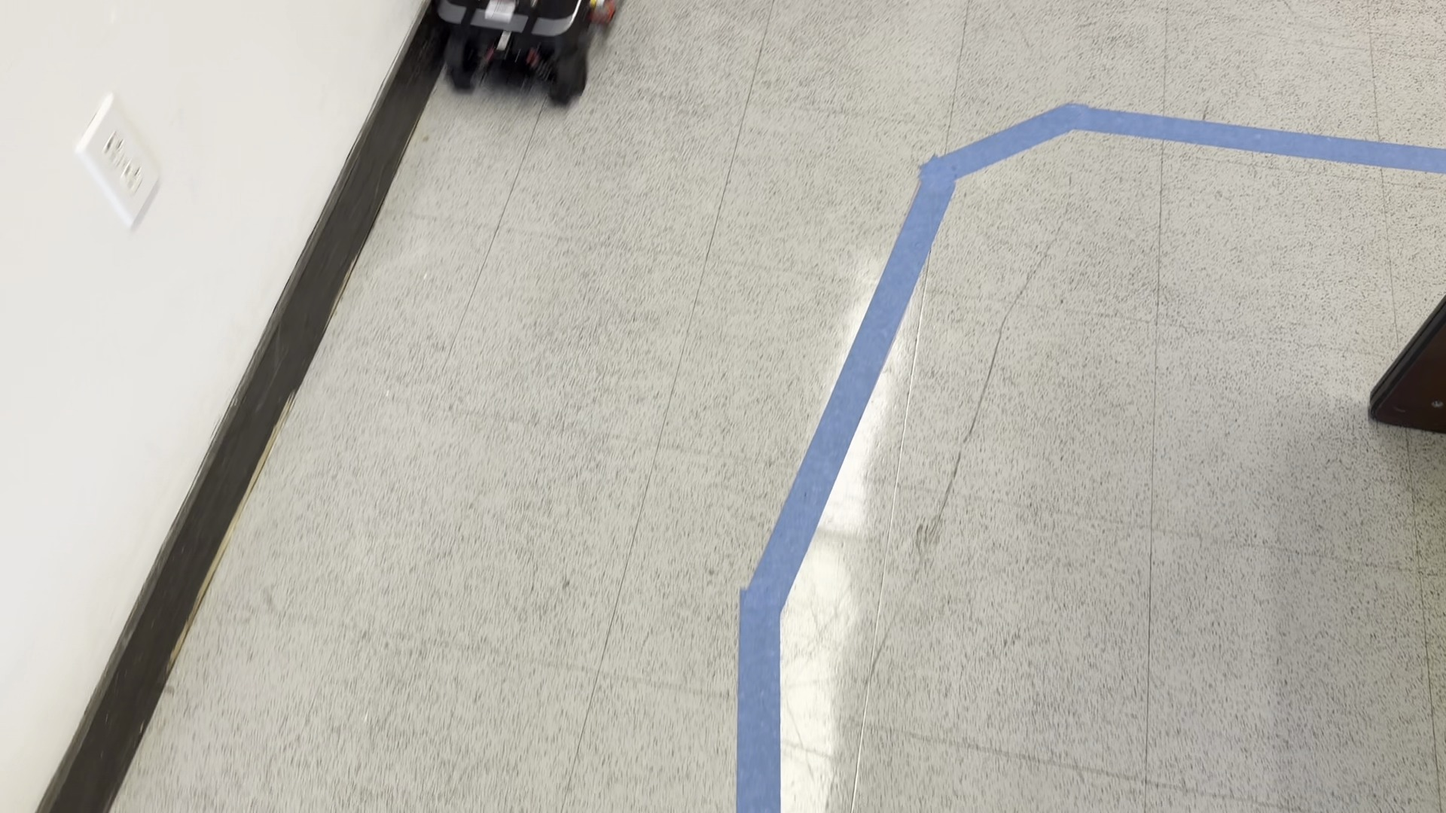racecar: (438, 0, 616, 105)
